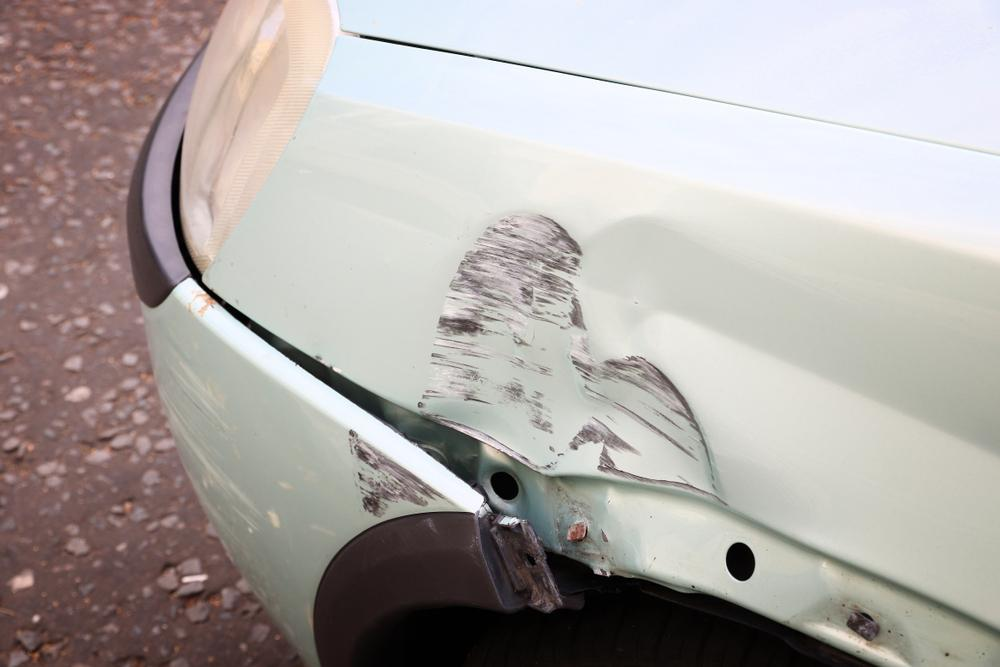scratch: (419, 213, 721, 496), (168, 344, 275, 549), (343, 422, 445, 518)
